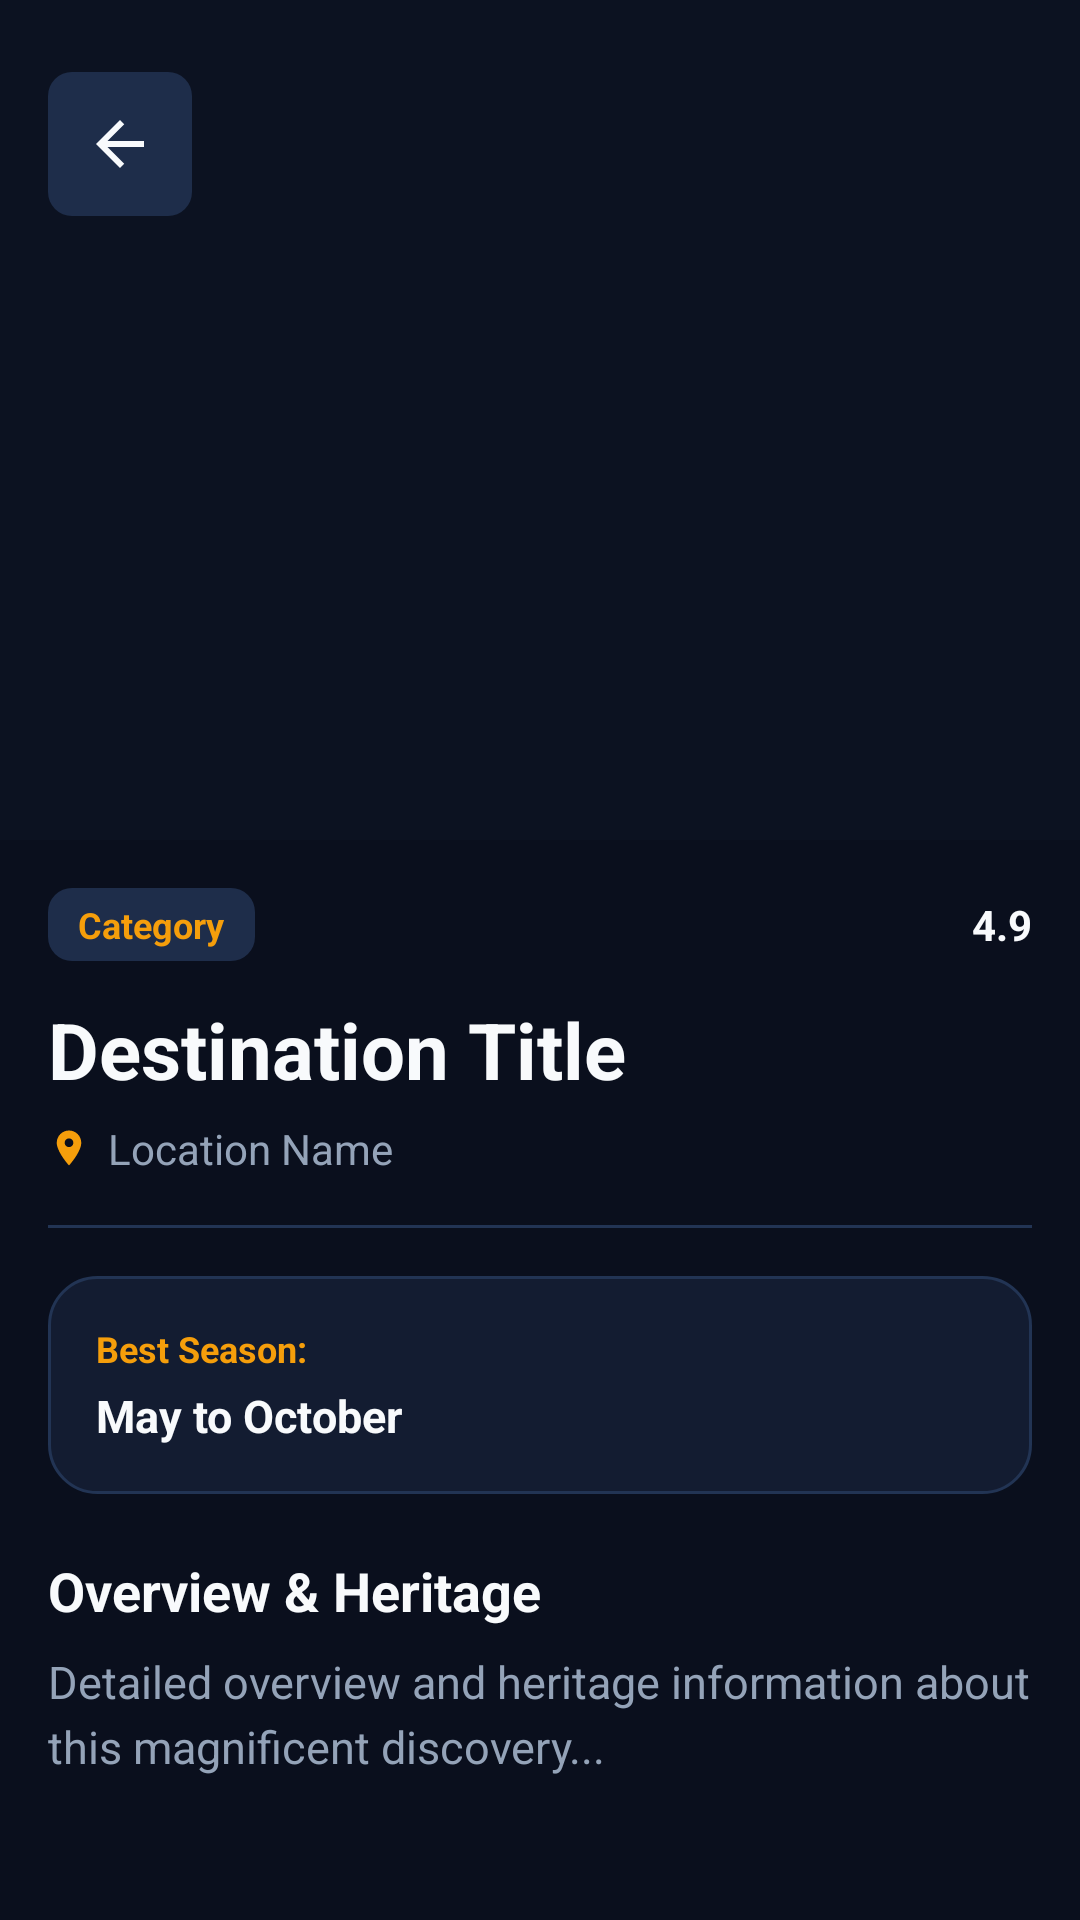

Point at icon controls on the screen. Image size 1080 x 1920, points as (x,y).
Location pin: (69,1147)
Navigate back: (120,144)
